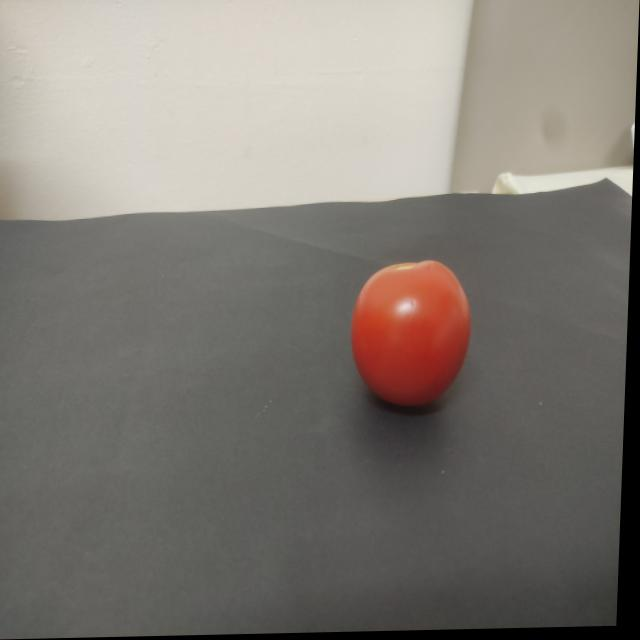kirmizi: (341, 247, 487, 427)
